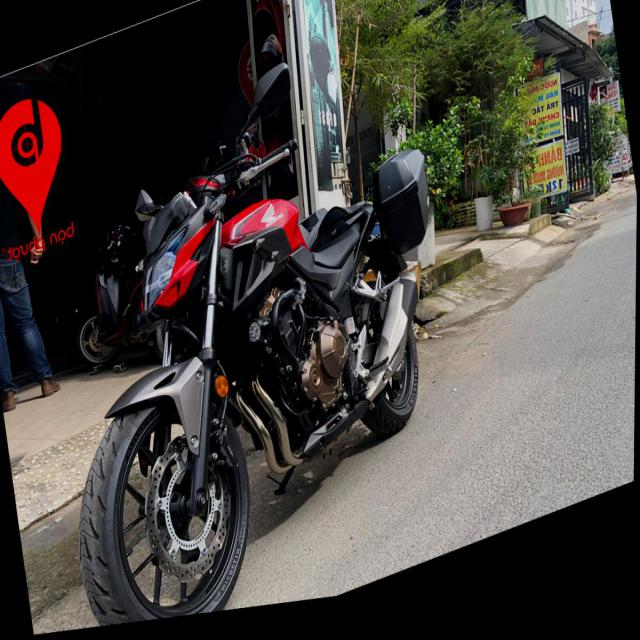CB500F: (20, 19, 485, 636)
